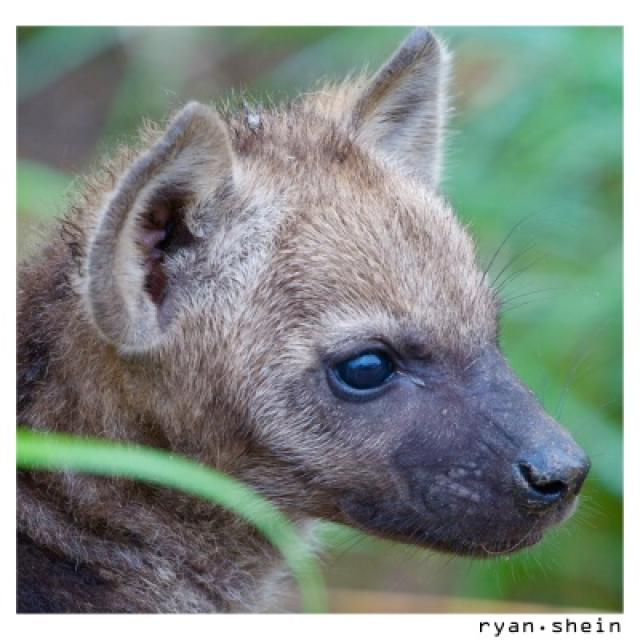hyena: (16, 29, 592, 616)
